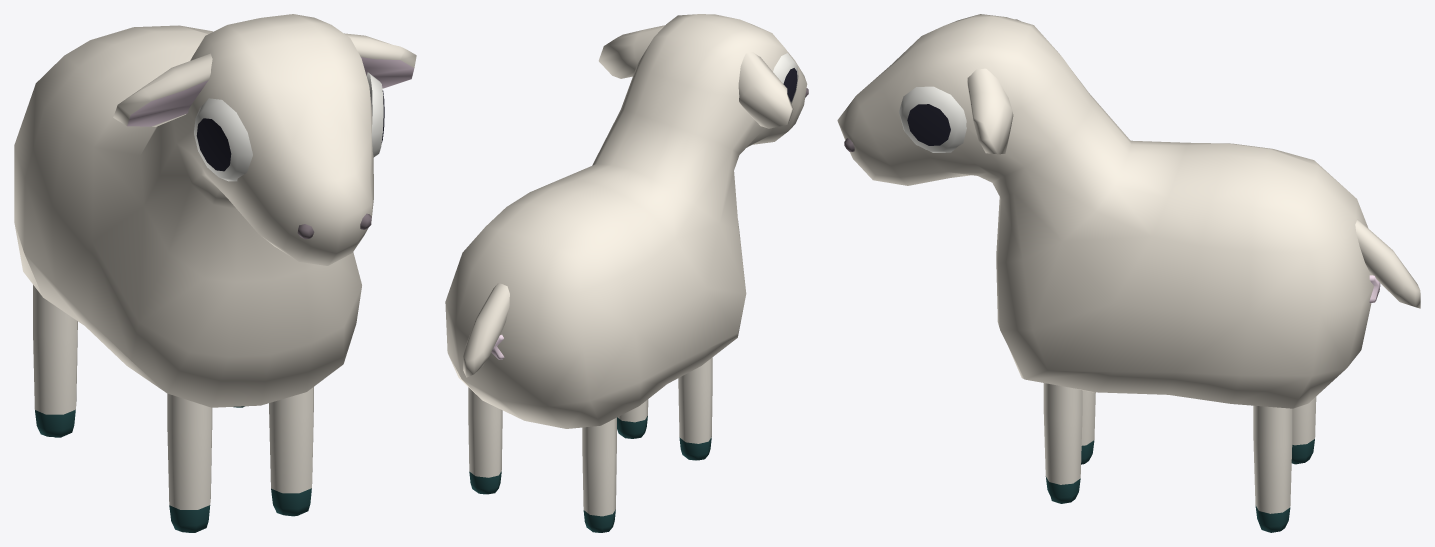
The model's file is Lamb.glb.
The picture shows the model from 3 angles, left to right: view 1: azimuth 30°, elevation 25°; view 2: azimuth 150°, elevation 25°; view 3: azimuth 270°, elevation 25°; orthographic projection. The views are drawn at different scales.
Parts seen in each view (by area): view 1: Lamb; view 2: Lamb; view 3: Lamb.
Part boxes in pixels (x1,y1,x2,y2): Lamb: (14, 14, 416, 532); Lamb: (445, 14, 808, 532); Lamb: (837, 14, 1420, 532).
Bounding box in the file's own units: 1.27 × 2.18 × 2.55.
1 material, 1 textured.
